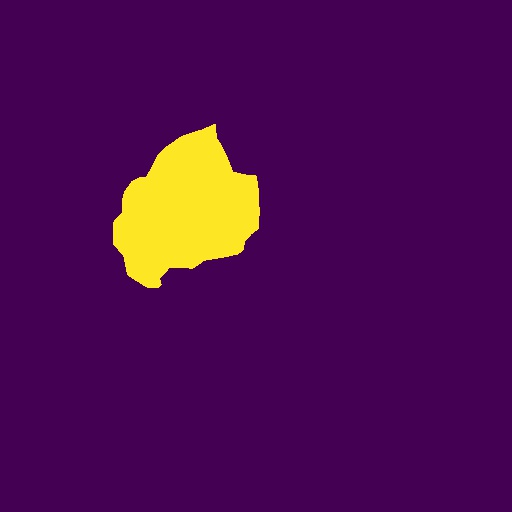Gliomia_tumour: (113, 124, 260, 288)
